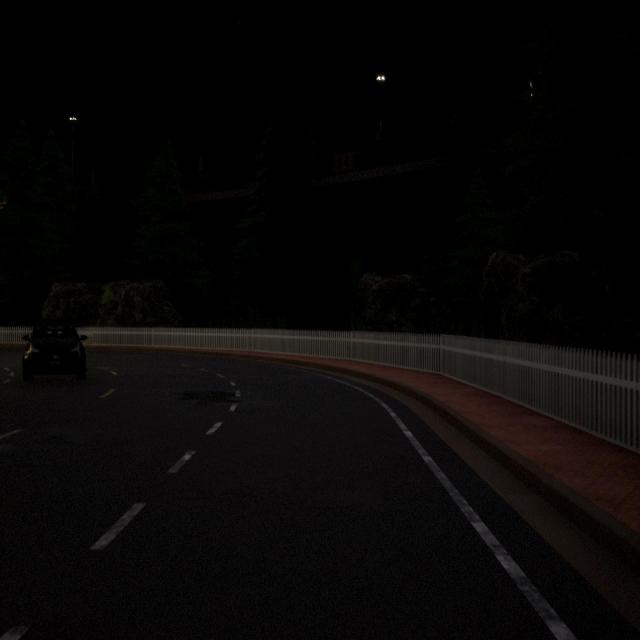Vehicle: (22, 320, 87, 387)
